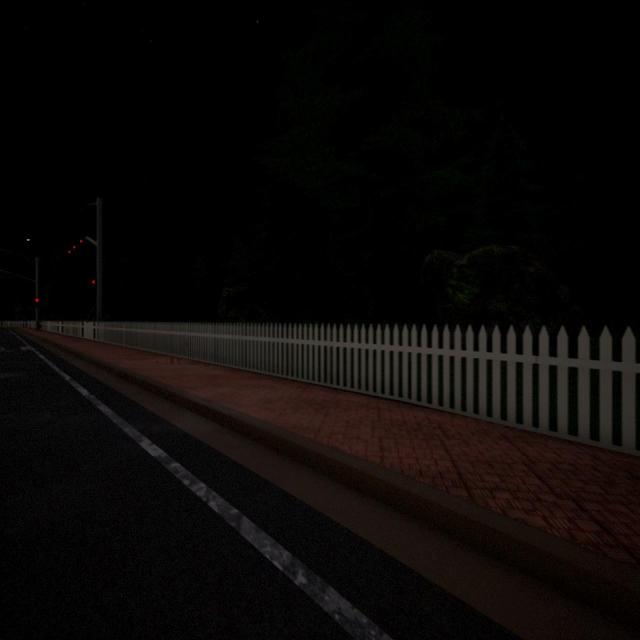traffic_light: (35, 297, 39, 307), (72, 245, 76, 249), (92, 280, 95, 284), (80, 239, 82, 243), (68, 250, 70, 254)
